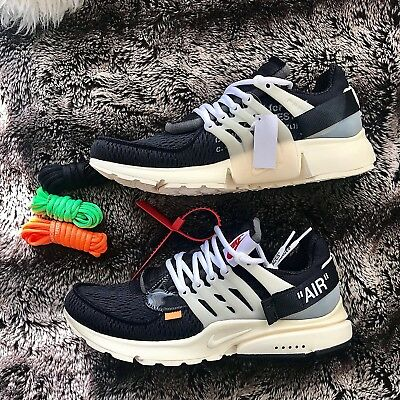Nike x OFF--WHITE Air Presto OG: (60, 209, 370, 372), (81, 59, 389, 196)
